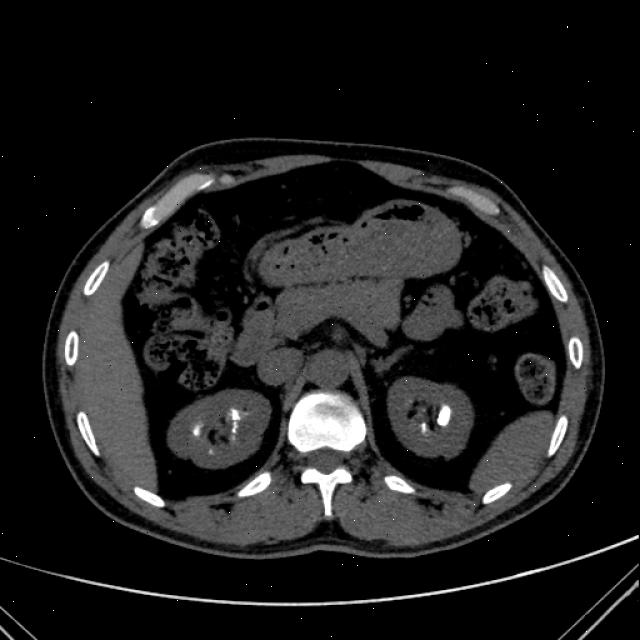kidneystone: (436, 405, 451, 427), (231, 409, 241, 434), (192, 424, 202, 437)
